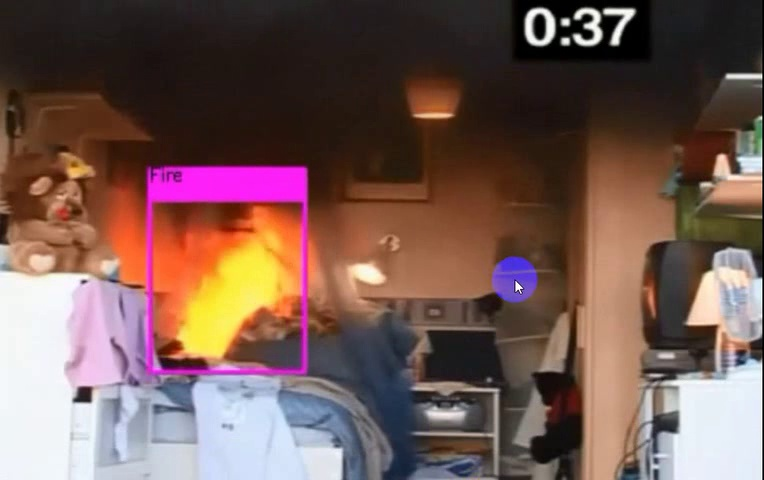fire: (164, 216, 293, 362)
